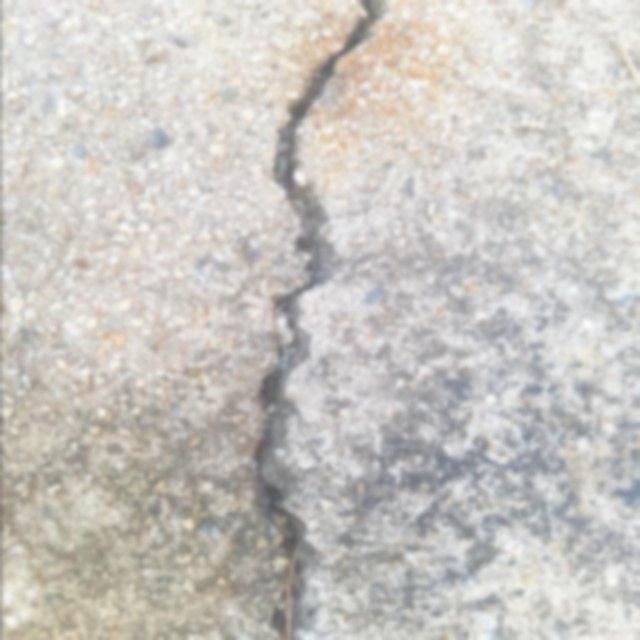SurfaceCrack: (194, 0, 434, 639)
